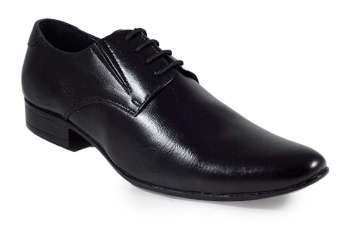Footwear: (19, 13, 333, 206)
